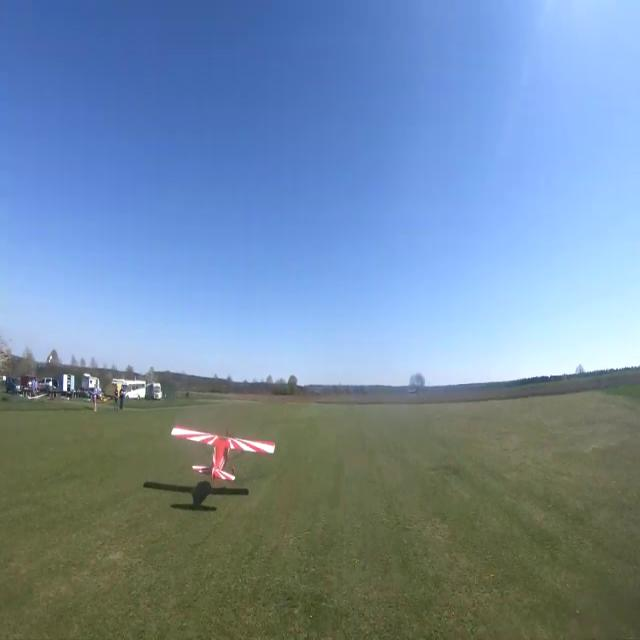iha: (205, 421, 244, 483)
